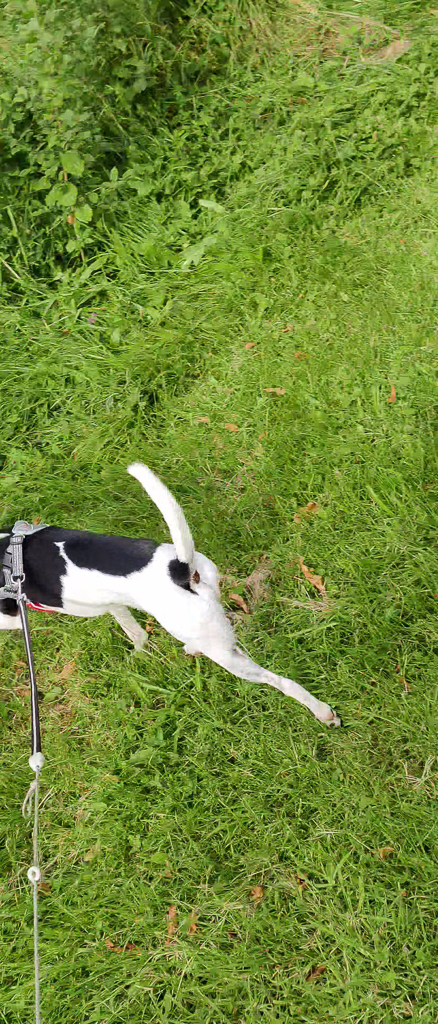Dog: (0, 439, 352, 740)
